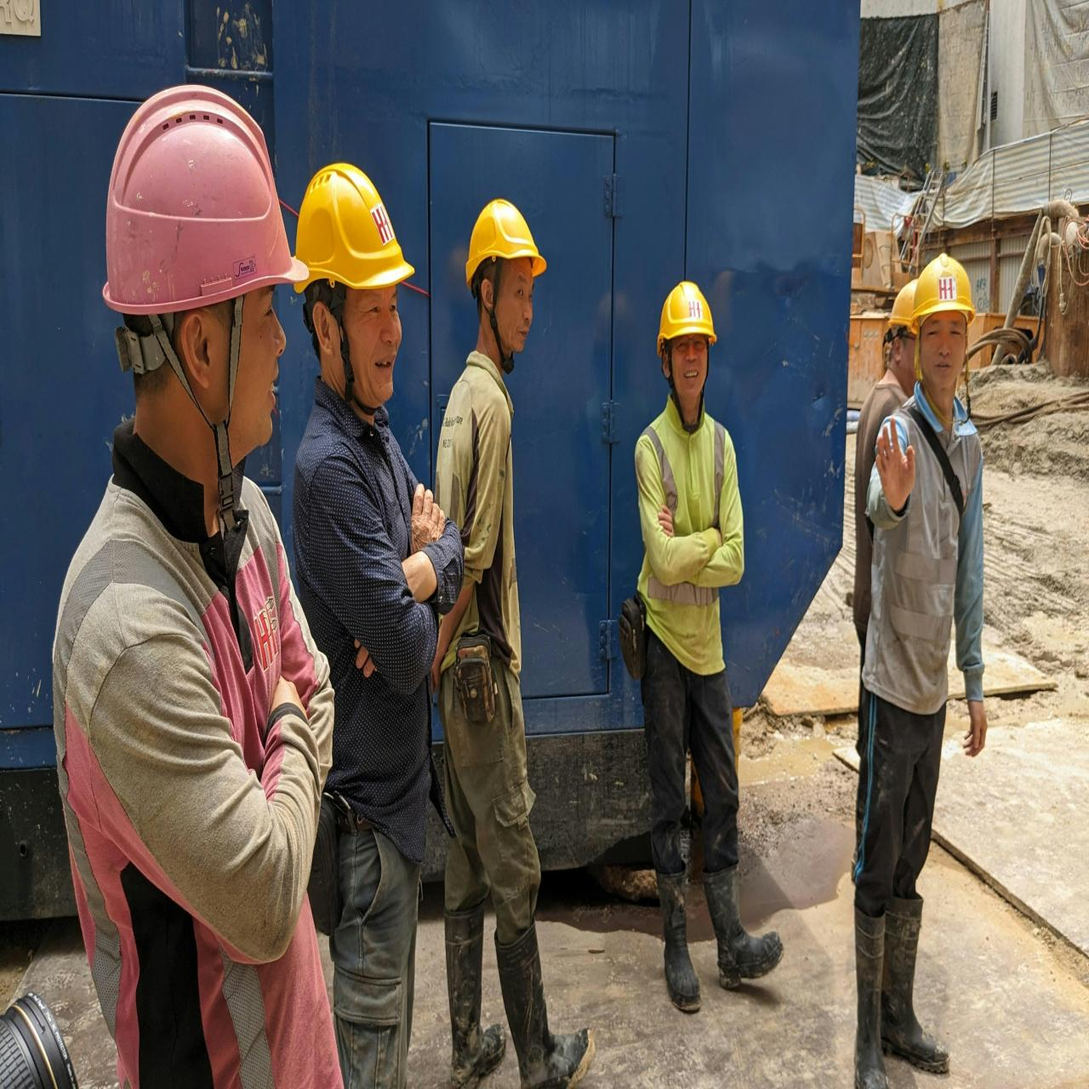NO_Safety_Vest: (48, 437, 340, 1089), (297, 418, 439, 811), (864, 401, 980, 713), (432, 359, 536, 689), (632, 401, 739, 681)
Person: (35, 62, 364, 1089), (272, 132, 467, 1089), (414, 168, 589, 1059), (837, 264, 981, 1083), (620, 260, 768, 1039)
